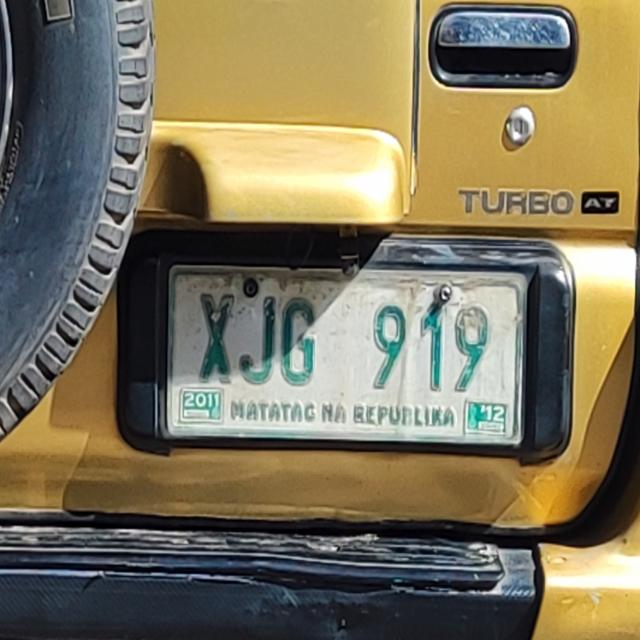plate: (160, 256, 532, 455)
